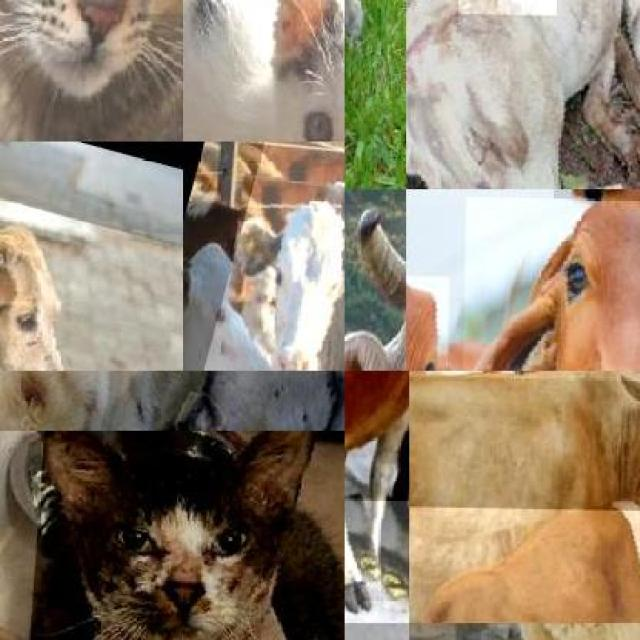cat: (8, 431, 344, 640), (0, 0, 183, 142), (183, 0, 345, 142)
cow: (409, 372, 640, 623), (406, 0, 640, 189), (183, 142, 345, 370), (457, 195, 640, 371), (409, 505, 640, 623), (345, 371, 409, 623), (549, 189, 640, 346), (345, 203, 406, 371)
dog: (0, 142, 183, 370), (0, 371, 345, 431)
injured: (345, 497, 409, 623)
